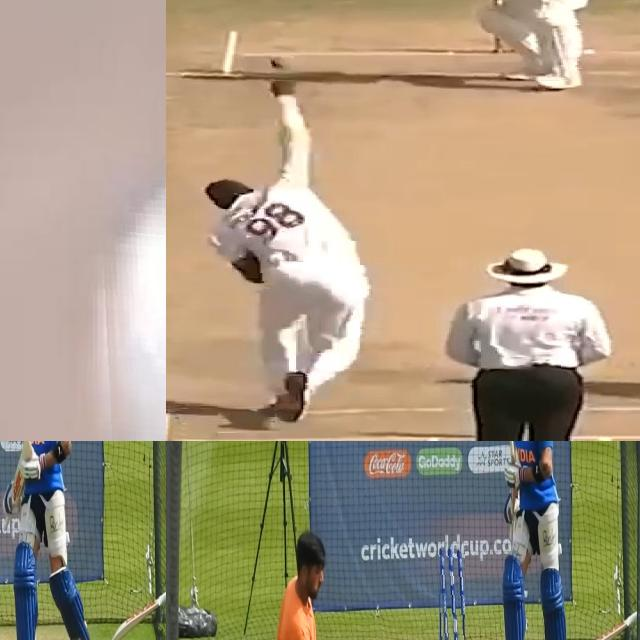Cricket ball: (94, 105, 166, 441), (266, 53, 294, 71)
Stumps: (436, 545, 465, 640)
